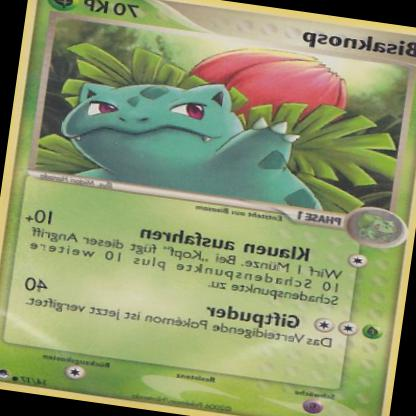Ivysaur: (41, 21, 361, 211)
